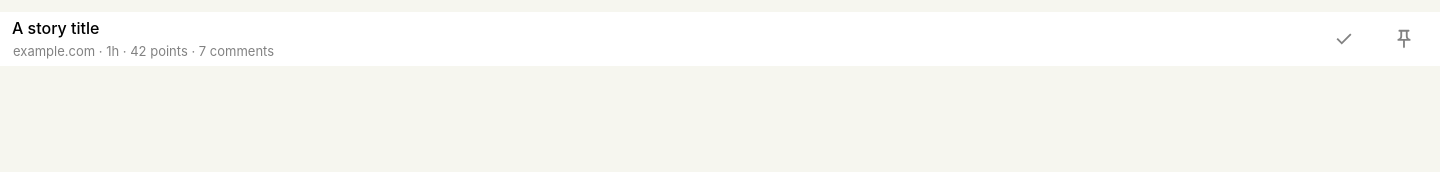
Test case: StoryListItem › wide-viewport Done button › toggles the done store on click and flips aria-pressed
Click the button with test id "done-btn" at (1344, 39), box [1320,12,1368,66]
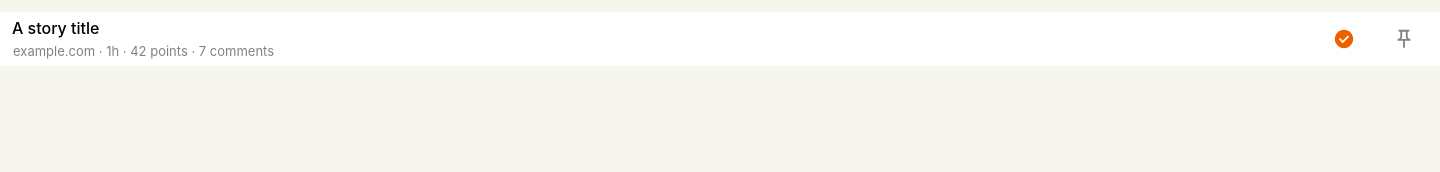
expect the button with test id "done-btn" is pressed: met
Click the button with test id "done-btn" at (1344, 39), box [1320,12,1368,66]
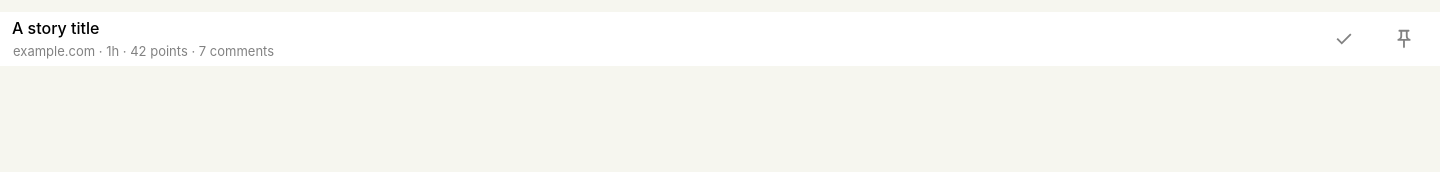
expect the button with test id "done-btn" is not pressed: met, box [1320,12,1368,66]
